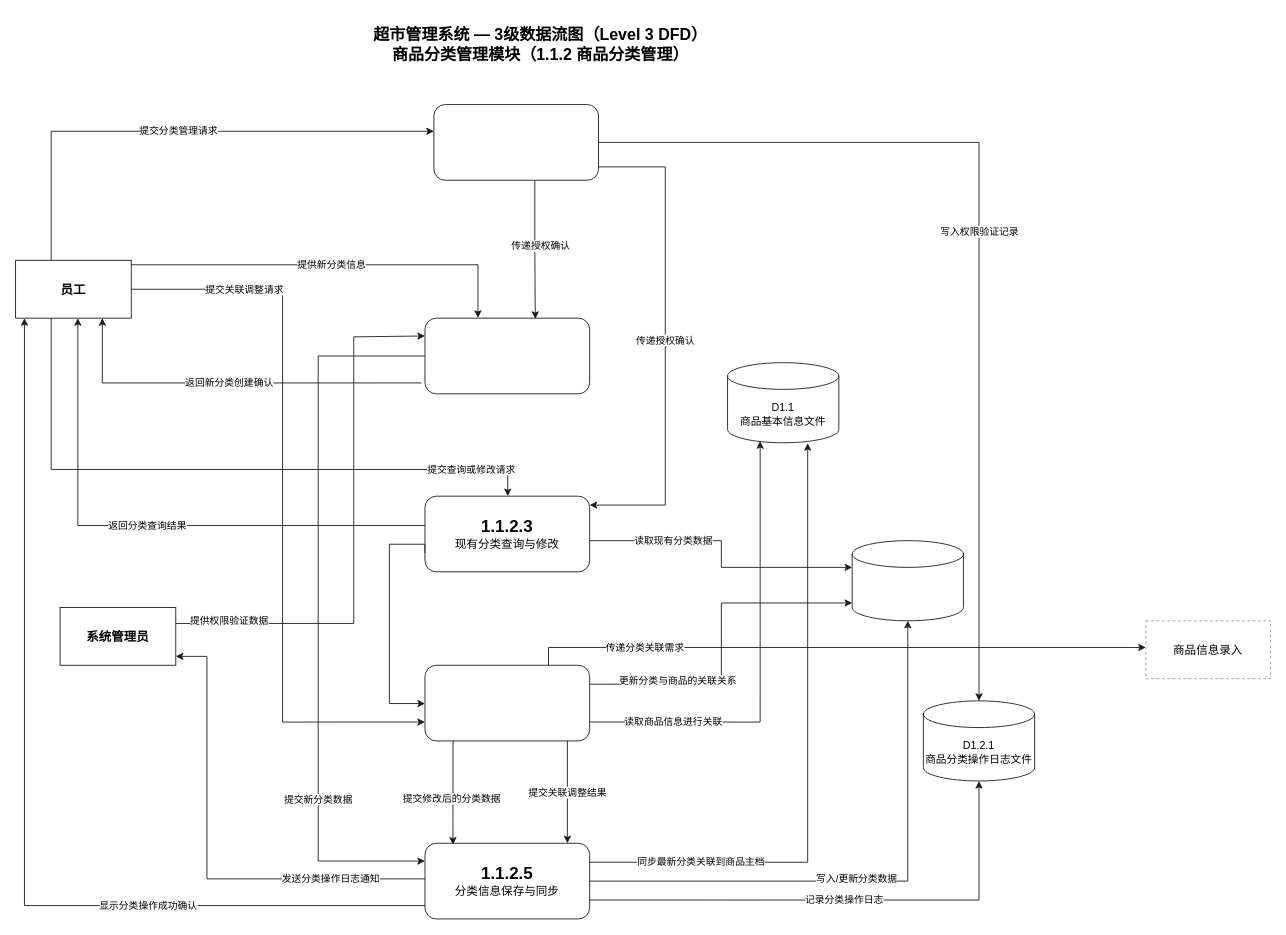
Image size: 1286x935. Some labels were removed from this diagram. Here are the shapes that lost their labels. From the top down, the centre of each, then its label:
the point at 516,142: 1.1.2.1 分类权限验证
the point at 507,355: 1.1.2.2 新分类创建
the point at 907,580: D1.2 商品分类文件
the point at 507,702: 1.1.2.4 商品与分类关联调整
